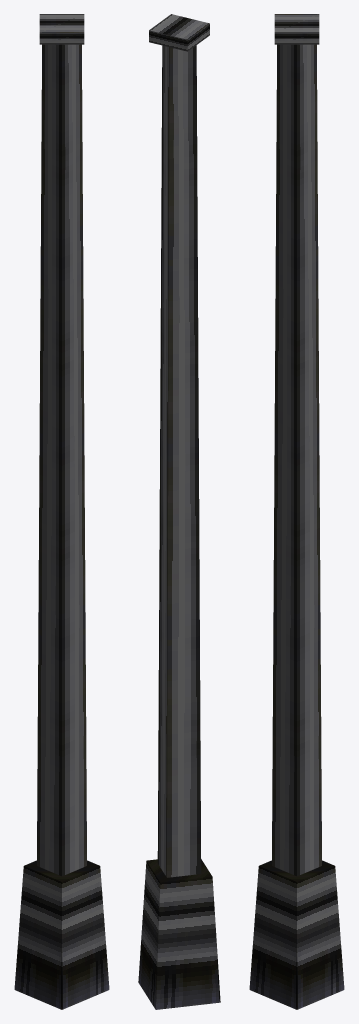
The model's file is Flag_Pole.fbx.
3 views of the same model, side by side, from view 1: azimuth 90°, elevation 25°; view 2: azimuth 150°, elevation 25°; view 3: azimuth 270°, elevation 25° (orthographic).
Parts seen in each view (by area): view 1: Flag_Pole; view 2: Flag_Pole; view 3: Flag_Pole.
Boxes of the visible parts, x1=… form: Flag_Pole: x1=14, y1=14, x2=109, y2=1009; Flag_Pole: x1=138, y1=14, x2=220, y2=1009; Flag_Pole: x1=249, y1=14, x2=344, y2=1009.
Size of the model in its own units: 38.83 by 436 by 38.83.
